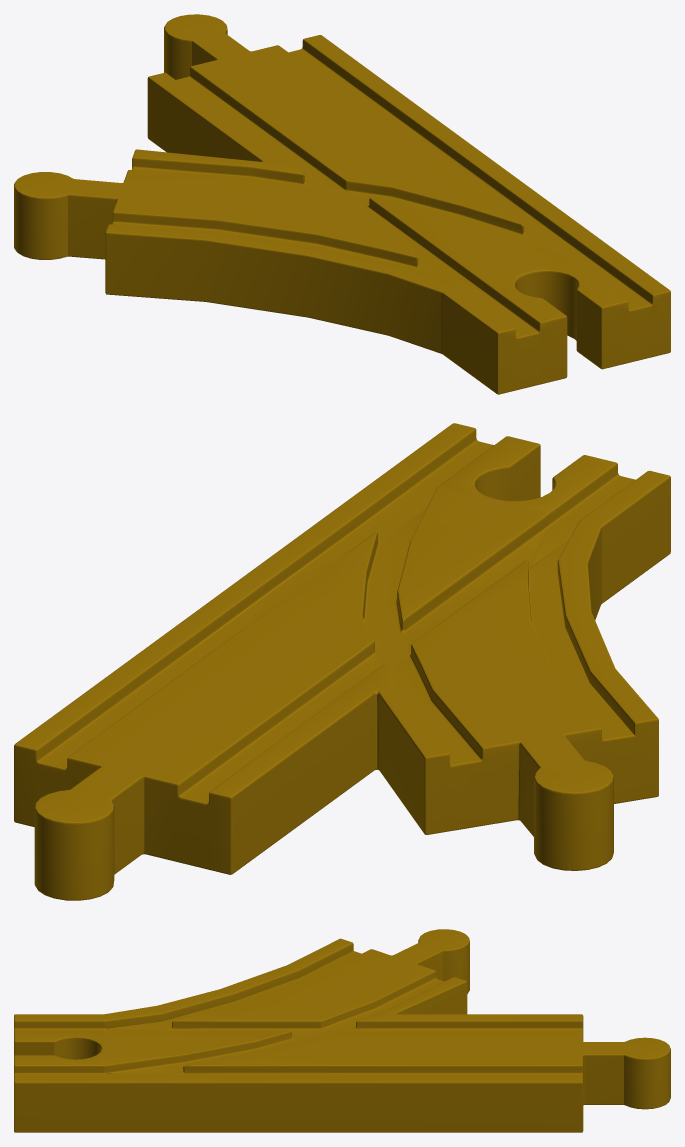
Rendered from Railway_cross.fbx.
The picture shows the model from 3 angles, top to bottom: view 1: azimuth 30°, elevation 25°; view 2: azimuth 150°, elevation 25°; view 3: azimuth 270°, elevation 25°; orthographic projection. The views are drawn at different scales.
Parts seen in each view (by area): view 1: Railway_cross; view 2: Railway_cross; view 3: Railway_cross.
Part boxes in pixels (box(x1,y1,x2,y2)): Railway_cross: box(14, 14, 670, 394); Railway_cross: box(14, 423, 670, 900); Railway_cross: box(14, 929, 670, 1132).
Bounding box in the file's own units: 161 × 24.95 × 291.
